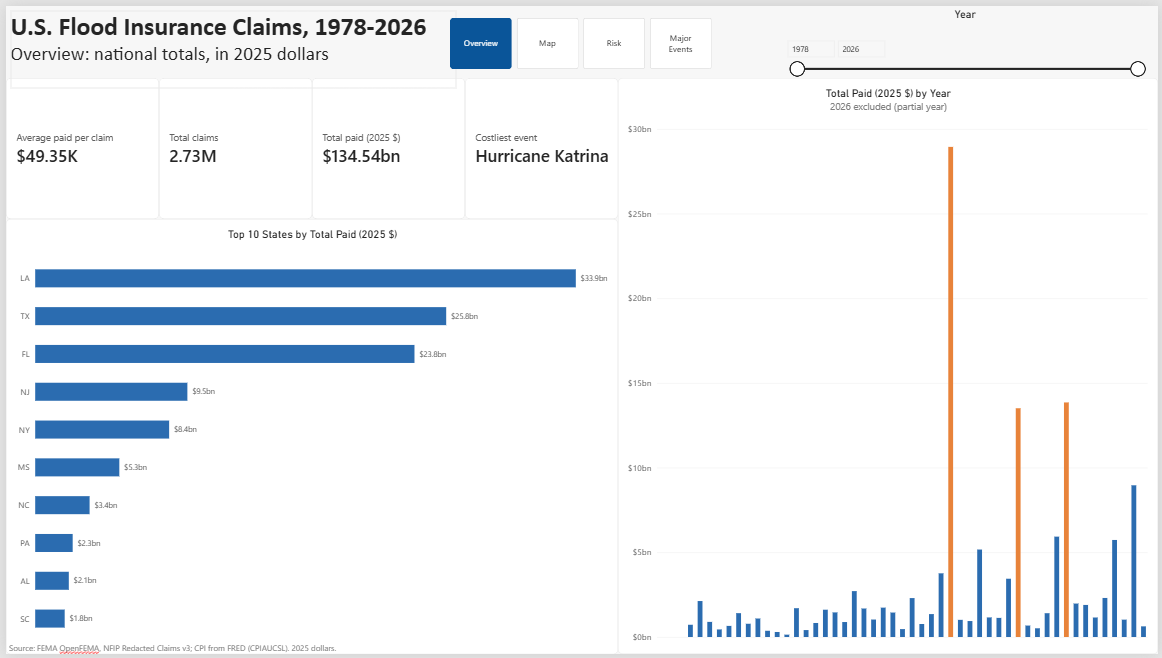

What the dashboard file says about the page in this screenshot:
{"tool":"powerbi","page":{"name":"Overview","canvas":[1920,1080],"ordinal":0},"visuals":[{"type":"cardVisual","fields":{"Data":["v_claims.Avg Paid per Claim (2025 $)","v_claims.Total Claims","v_claims.Total Paid (2025 $)","v_claims.Top Event"]},"box":[0,120,1020,235],"z":0},{"type":"textbox","box":[7.5,7.5,742.5,130],"z":1000},{"type":"clusteredColumnChart","fields":{"Category":["Date.Year"],"Y":["v_claims.Total Paid (2025 $)"]},"box":[1020,120,900,960],"z":2000},{"type":"clusteredBarChart","title":"Top 10 States by Total Paid (2025 $)","fields":{"Category":["v_claims.state"],"Y":["v_claims.Total Paid (2025 $)"]},"box":[0,355,1020,725],"z":3000},{"type":"slicer","title":"Year","fields":{"Values":["Date.Year"]},"box":[1295,2.5,607.5,122.5],"z":4000},{"type":"textbox","box":[5,1060,592.5,20],"z":5000},{"type":"pageNavigator","box":[740,20,437.5,85],"z":5001}]}

Visuals, with their boxes in screenshot pixels (x1, y1, x2, y2), scaled from the page's 1920x1080 canvas onto the 1162x658 screenshot:
cardVisual - v_claims.Avg Paid per Claim (2025 $) x v_claims.Total Claims: region(0, 73, 617, 216)
textbox: region(5, 5, 454, 84)
clusteredColumnChart - Date.Year x v_claims.Total Paid (2025 $): region(617, 73, 1161, 657)
"Top 10 States by Total Paid (2025 $)" clusteredBarChart: region(0, 216, 617, 657)
"Year" slicer: region(784, 2, 1151, 76)
textbox: region(3, 646, 362, 657)
pageNavigator: region(448, 12, 713, 64)
